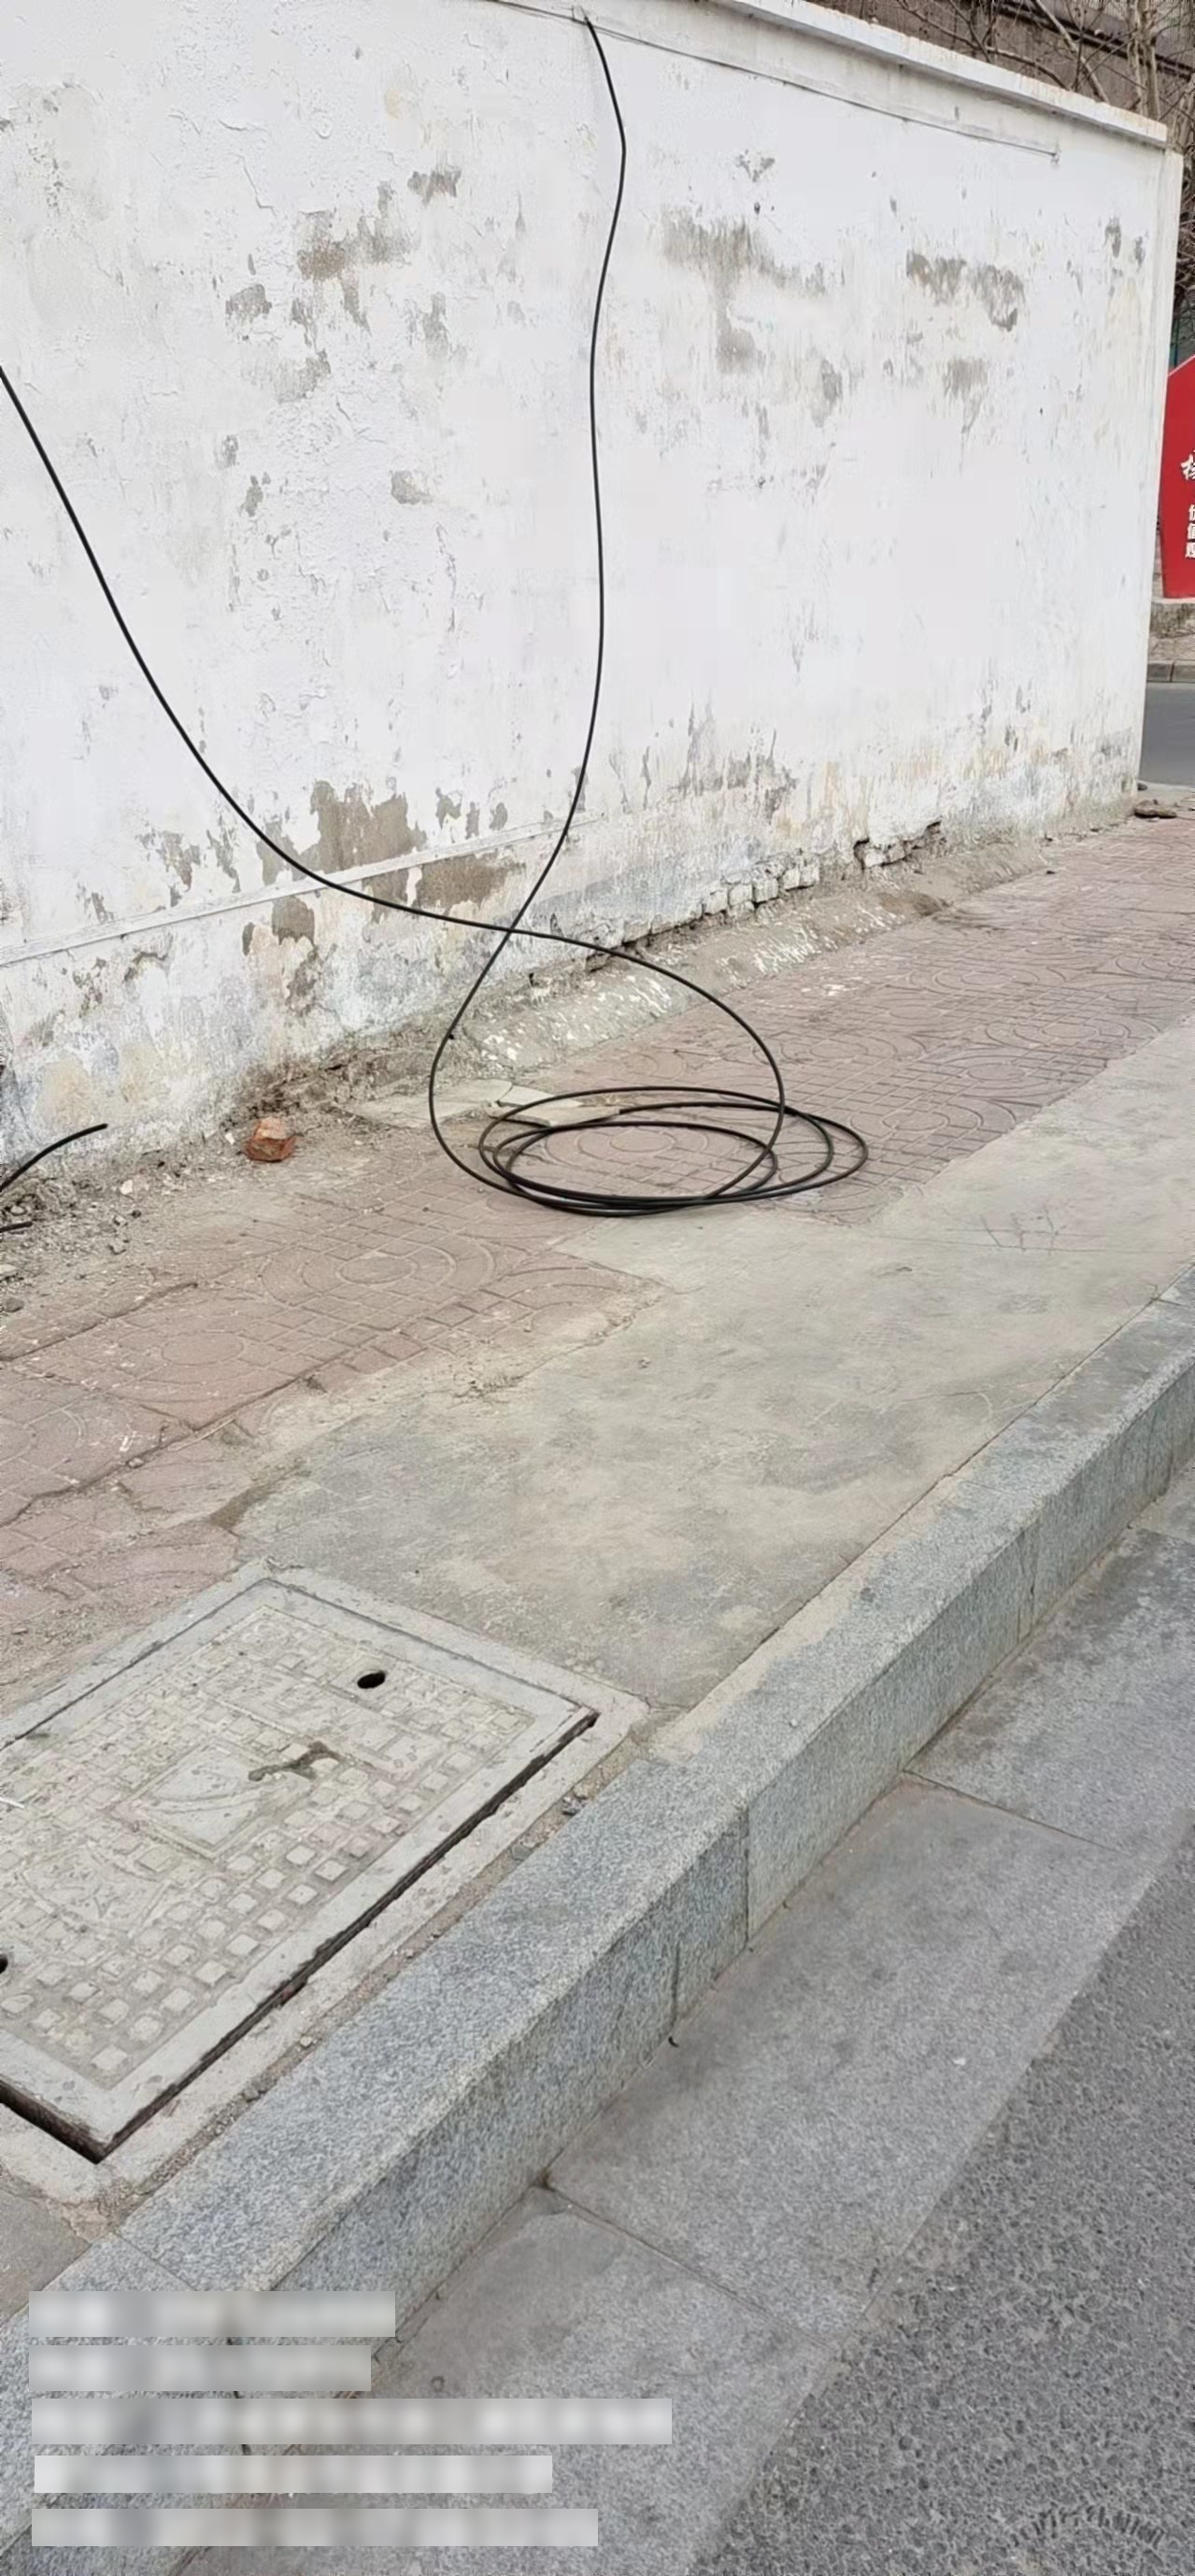good: (2, 1554, 646, 2198)
